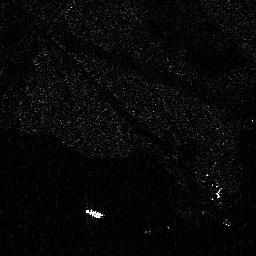ship: (85, 207, 104, 219)
